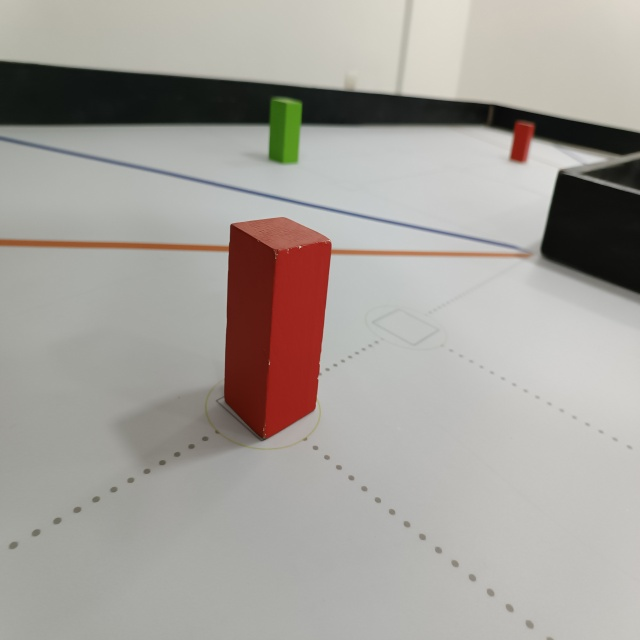blue line: (0, 134, 529, 252)
green rectangular prism: (265, 93, 305, 171)
orange line: (0, 235, 533, 259)
red rectangular prism: (220, 214, 334, 442), (504, 117, 538, 169)
